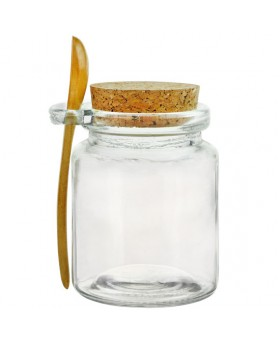Rec_Glass: (43, 30, 236, 309)
